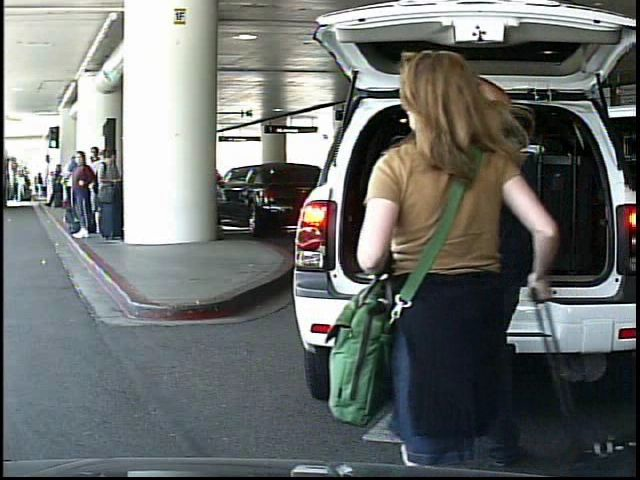person: (348, 39, 548, 478), (385, 70, 551, 458), (16, 174, 27, 205), (35, 172, 46, 199)
